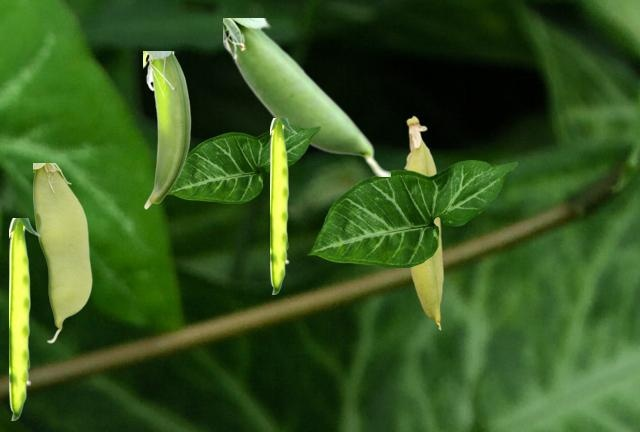pea: (223, 18, 389, 175), (33, 163, 91, 342), (403, 115, 443, 329), (143, 51, 191, 208), (9, 218, 39, 419), (270, 118, 296, 293)
